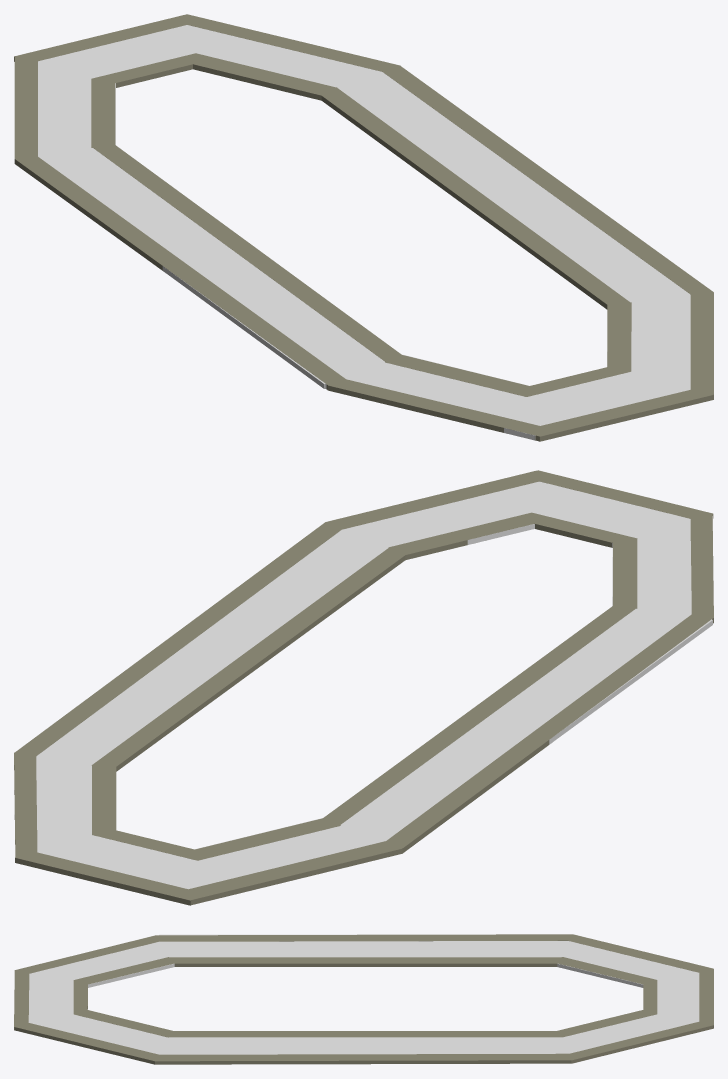
Rendered from ROAD_MAIN (1).fbx.
3 renders of one model, top to bottom at view 1: azimuth 30°, elevation 25°; view 2: azimuth 150°, elevation 25°; view 3: azimuth 270°, elevation 25°, orthographic. The views are drawn at different scales.
Parts seen in each view (by area): view 1: Cube.007, Cube.010, Cube.006; view 2: Cube.007, Cube.010, Cube.006; view 3: Cube.007, Cube.010, Cube.006.
Boxes of the visible parts, <box> form: Cube.007: <box>38,25,690,440</box>; Cube.010: <box>14,14,713,441</box>; Cube.006: <box>91,53,631,396</box>; Cube.007: <box>36,481,712,889</box>; Cube.010: <box>14,470,713,905</box>; Cube.006: <box>91,512,637,860</box>; Cube.007: <box>28,934,699,1054</box>; Cube.010: <box>14,934,713,1064</box>; Cube.006: <box>73,957,657,1037</box>.
Size of the model in its own units: 320 by 4 by 744.
